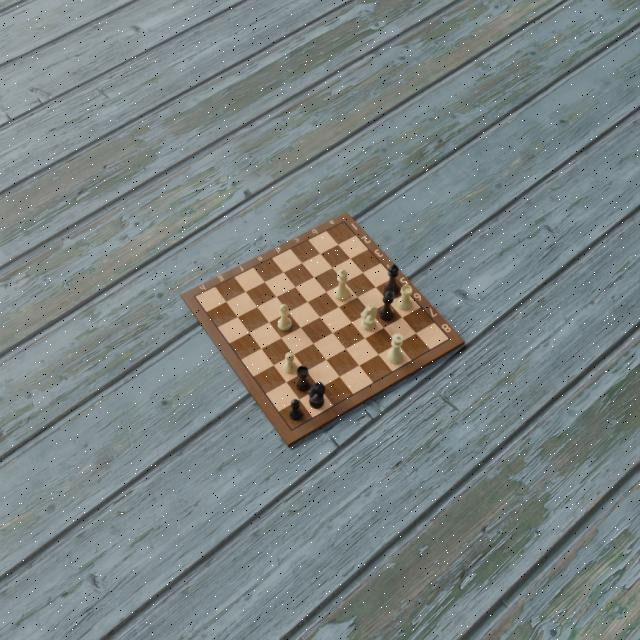black-king: (384, 262, 400, 298)
black-knight: (308, 380, 326, 410)
black-pawn: (289, 399, 303, 421)
black-queen: (377, 289, 394, 323)
black-rook: (295, 365, 312, 392)
white-bishop: (276, 303, 293, 333)
white-king: (334, 267, 350, 301)
white-knight: (359, 302, 377, 332)
white-pawn: (283, 350, 297, 374)
white-queen: (387, 332, 405, 366)
white-rook: (397, 283, 415, 312)
